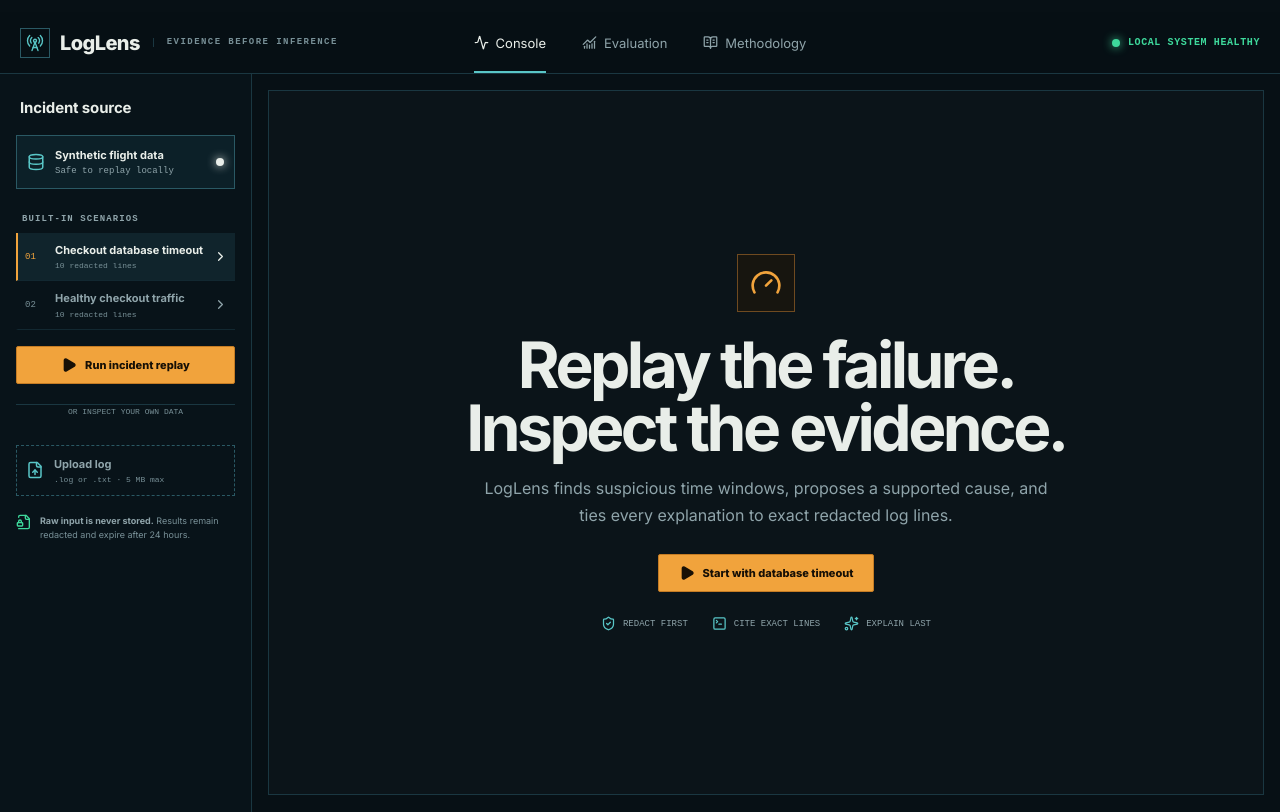
Test case: LogLens console › renders low-confidence unknown as a human-review outcome
Click the button "Run incident replay": (126, 365) [16,346,235,384]
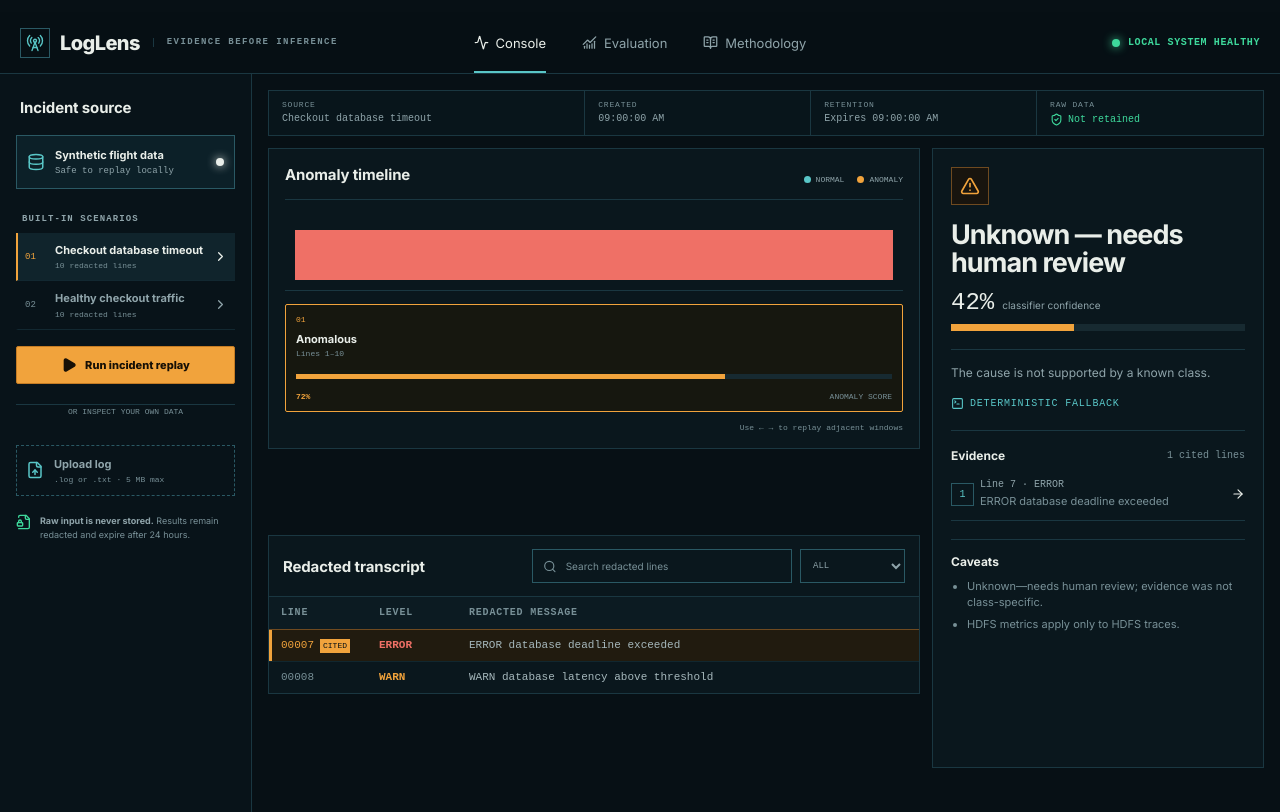
expect the heading "Unknown — needs human review" is shown: met, box [951,218,1183,279]
expect the list item "Unknown—needs human review; evidence was not class-specific." is shown: met, box [967,578,1245,610]
